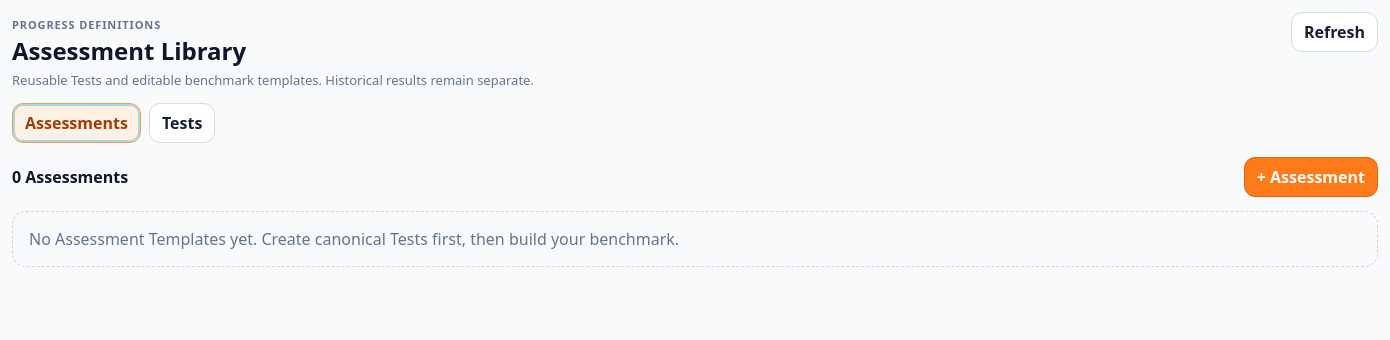
Test: AssessmentTemplateLibrary › directs the parent to Tests when no canonical Test exists
Expected: the text "No Assessment Templates yet" is shown, [29,228,679,250]
Step 1. Click the button "+ Assessment" → (1311,177), box [1244,157,1378,197]
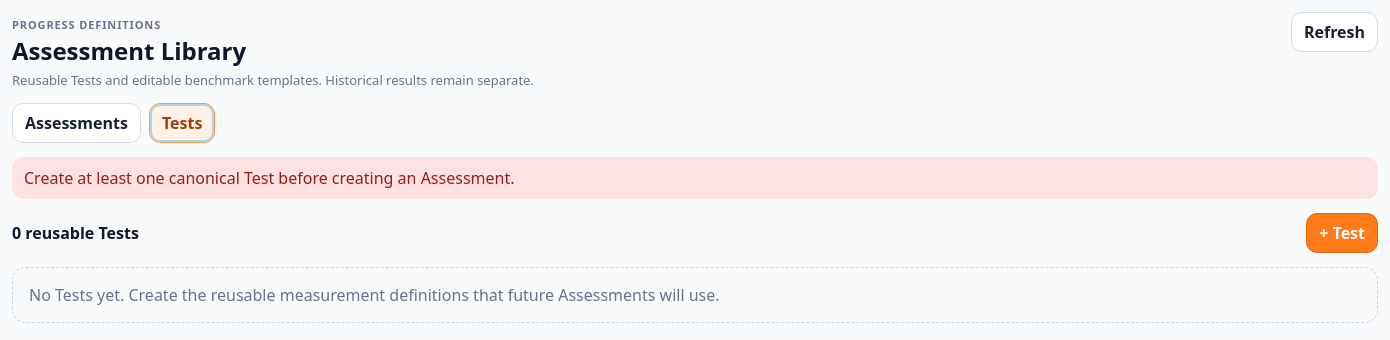
Now the message shows "Create at least one canonical Test", box [24,167,514,189]
Now the text "0 reusable Tests" is shown, box [12,222,139,244]
